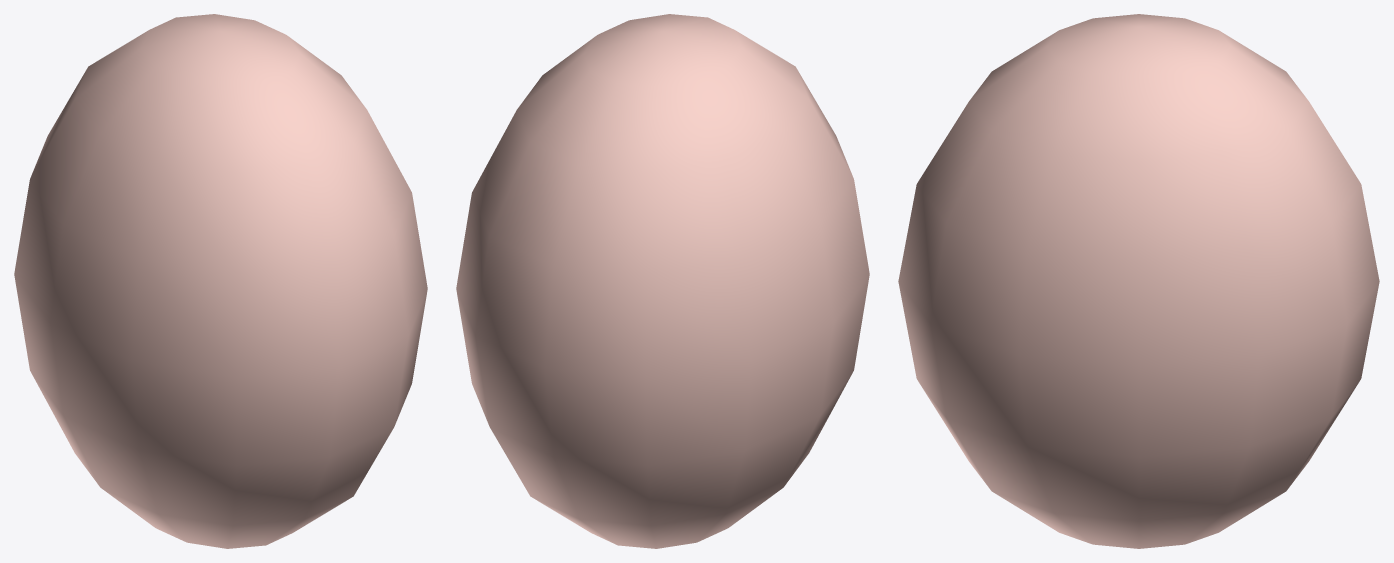
Rendered from noses-chibi-01.glb.
3 renders of one model, left to right at view 1: azimuth 30°, elevation 25°; view 2: azimuth 150°, elevation 25°; view 3: azimuth 270°, elevation 25°, orthographic.
Visible parts, largest first — view 1: part_0; view 2: part_0; view 3: part_0.
Part boxes in pixels (x1=…): part_0: x1=14, y1=14, x2=427, y2=548; part_0: x1=456, y1=14, x2=869, y2=548; part_0: x1=898, y1=14, x2=1379, y2=548.
Bounding box in the file's own units: 0.1 × 0.14 × 0.12.
